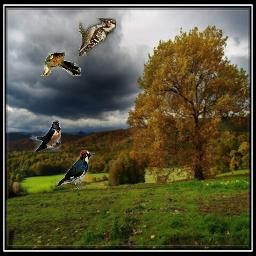Cuckoo: (41, 52, 81, 76)
Swallow: (21, 120, 61, 152)
Woodpecker: (56, 150, 95, 190), (79, 18, 116, 56)
